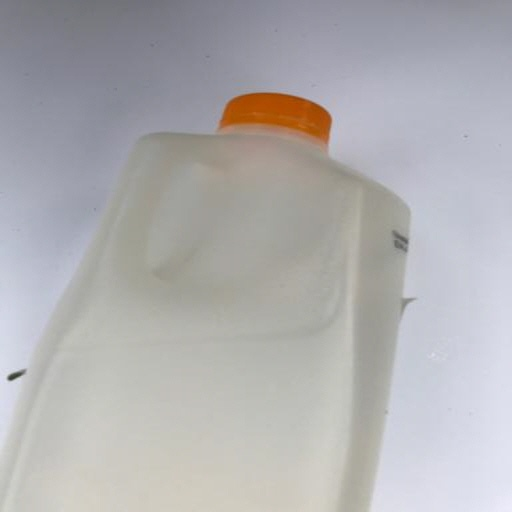Plastic_1: (4, 91, 411, 512)
